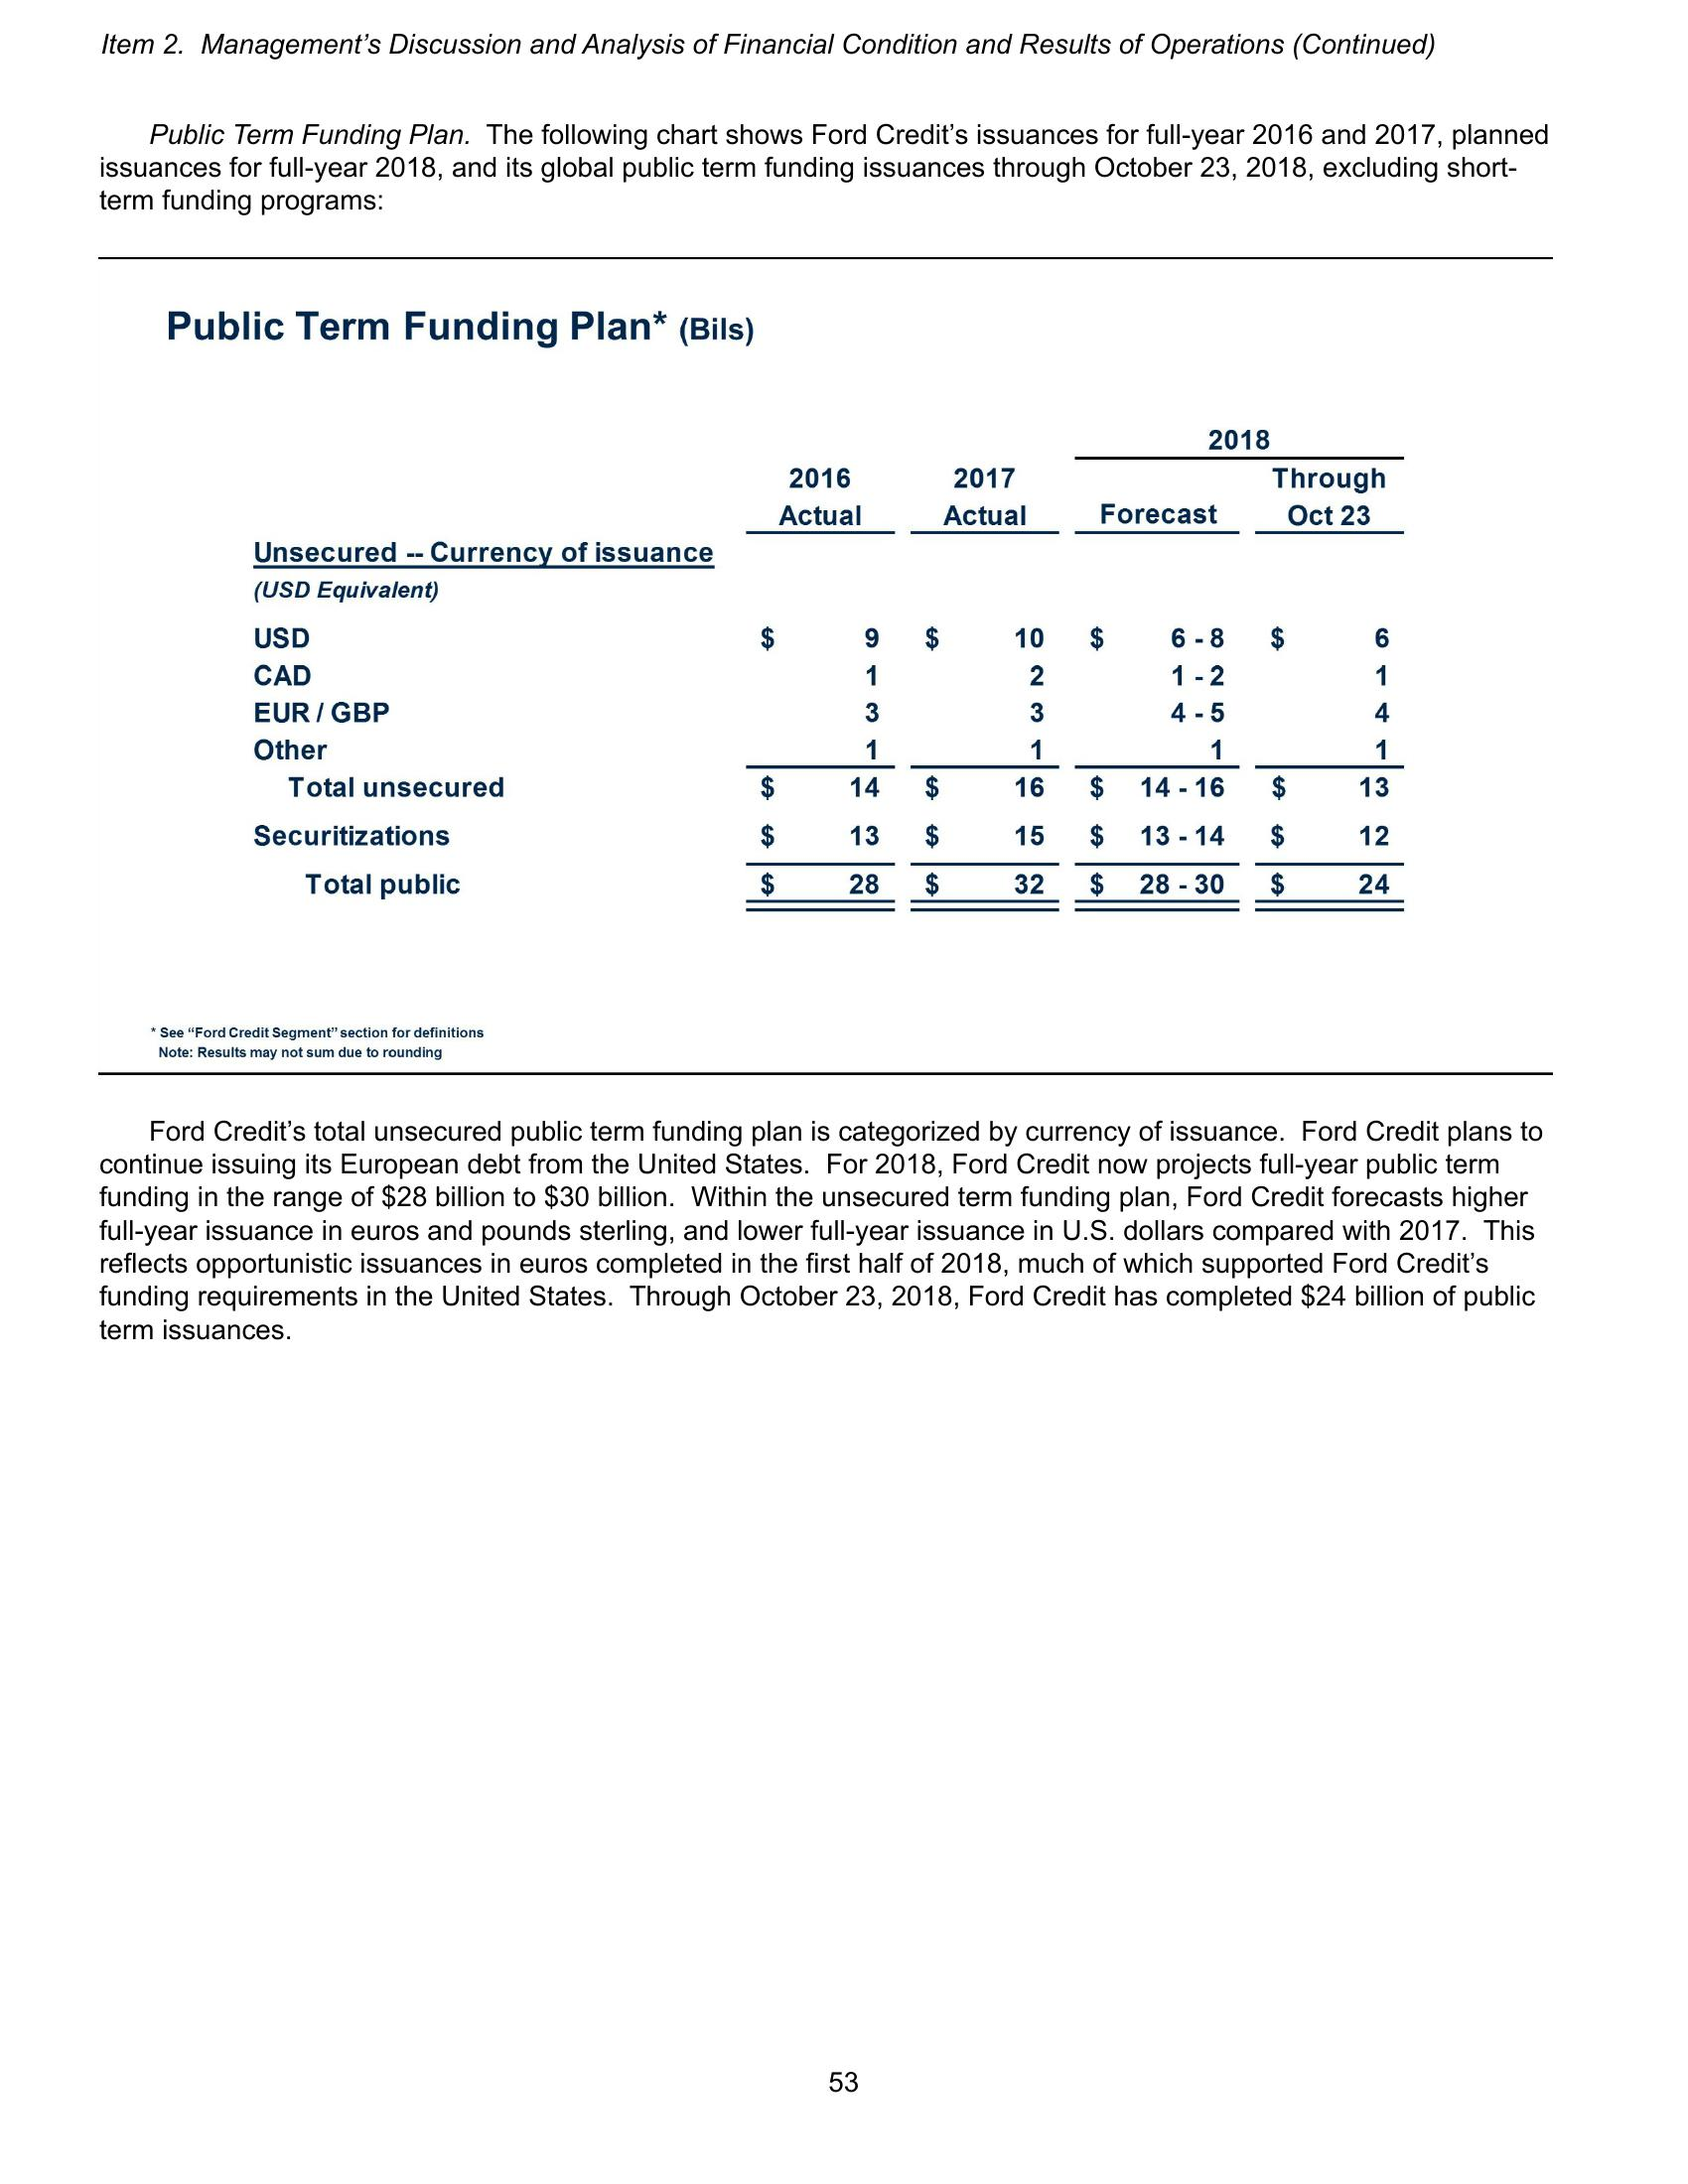table: (241, 415, 1418, 920)
